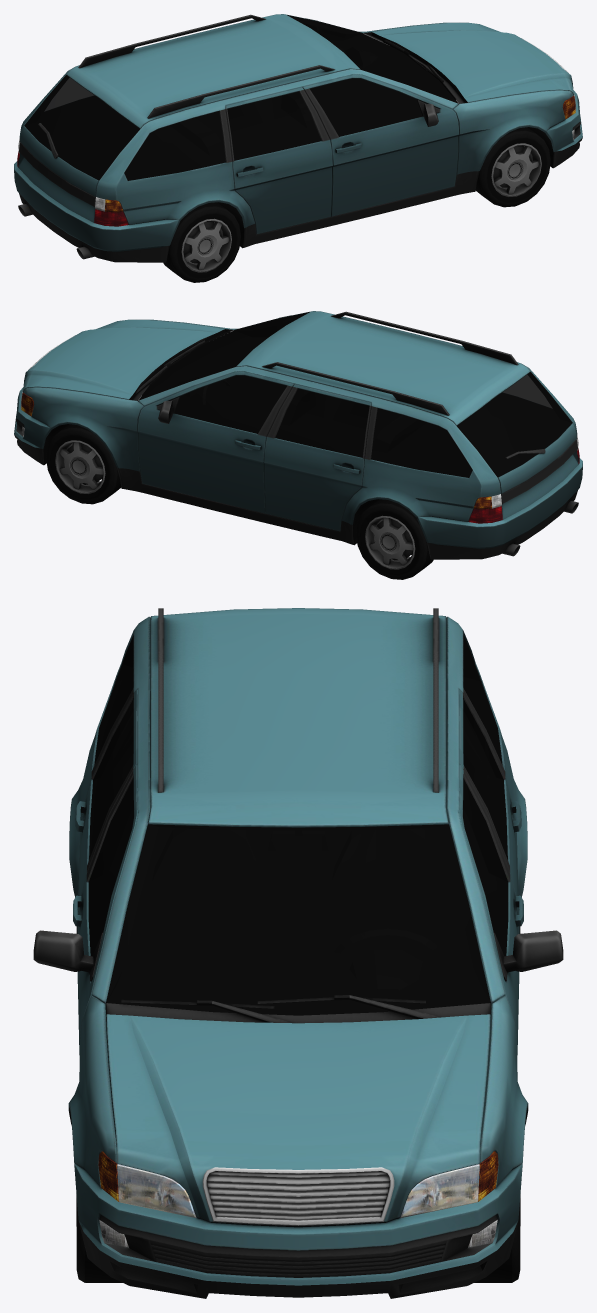
Rendered from perua.glb.
3 views of the same model, one above another, from view 1: azimuth 30°, elevation 25°; view 2: azimuth 150°, elevation 25°; view 3: azimuth 270°, elevation 25° (orthographic). The views are drawn at different scales.
Parts seen in each view (by area): view 1: Carroceria, Roda_TD, Roda_DD; view 2: Carroceria, Roda_TE, Roda_DE; view 3: Carroceria, Roda_DD, Roda_DE.
Part boxes in pixels (x1=…): Carroceria: x1=14, y1=14, x2=582, y2=262; Roda_TD: x1=163, y1=202, x2=240, y2=282; Roda_DD: x1=475, y1=127, x2=550, y2=207; Carroceria: x1=14, y1=311, x2=582, y2=559; Roda_TE: x1=356, y1=499, x2=433, y2=579; Roda_DE: x1=46, y1=424, x2=121, y2=504; Carroceria: x1=33, y1=608, x2=563, y2=1298; Roda_DD: x1=76, y1=1194, x2=122, y2=1282; Roda_DE: x1=474, y1=1194, x2=520, y2=1282.
Bounding box in the file's own units: 4.38 × 1.38 × 1.95.
4 materials, 3 textured.
